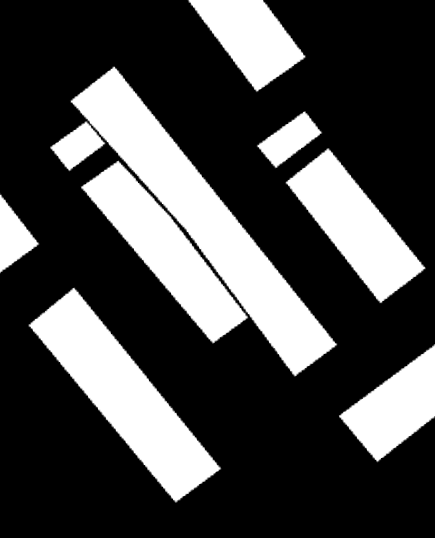parkingspot: (50, 67, 337, 376), (29, 288, 221, 502), (81, 161, 248, 343), (286, 148, 425, 303), (339, 344, 435, 462), (188, 0, 305, 91), (257, 112, 322, 168), (0, 195, 39, 273)
